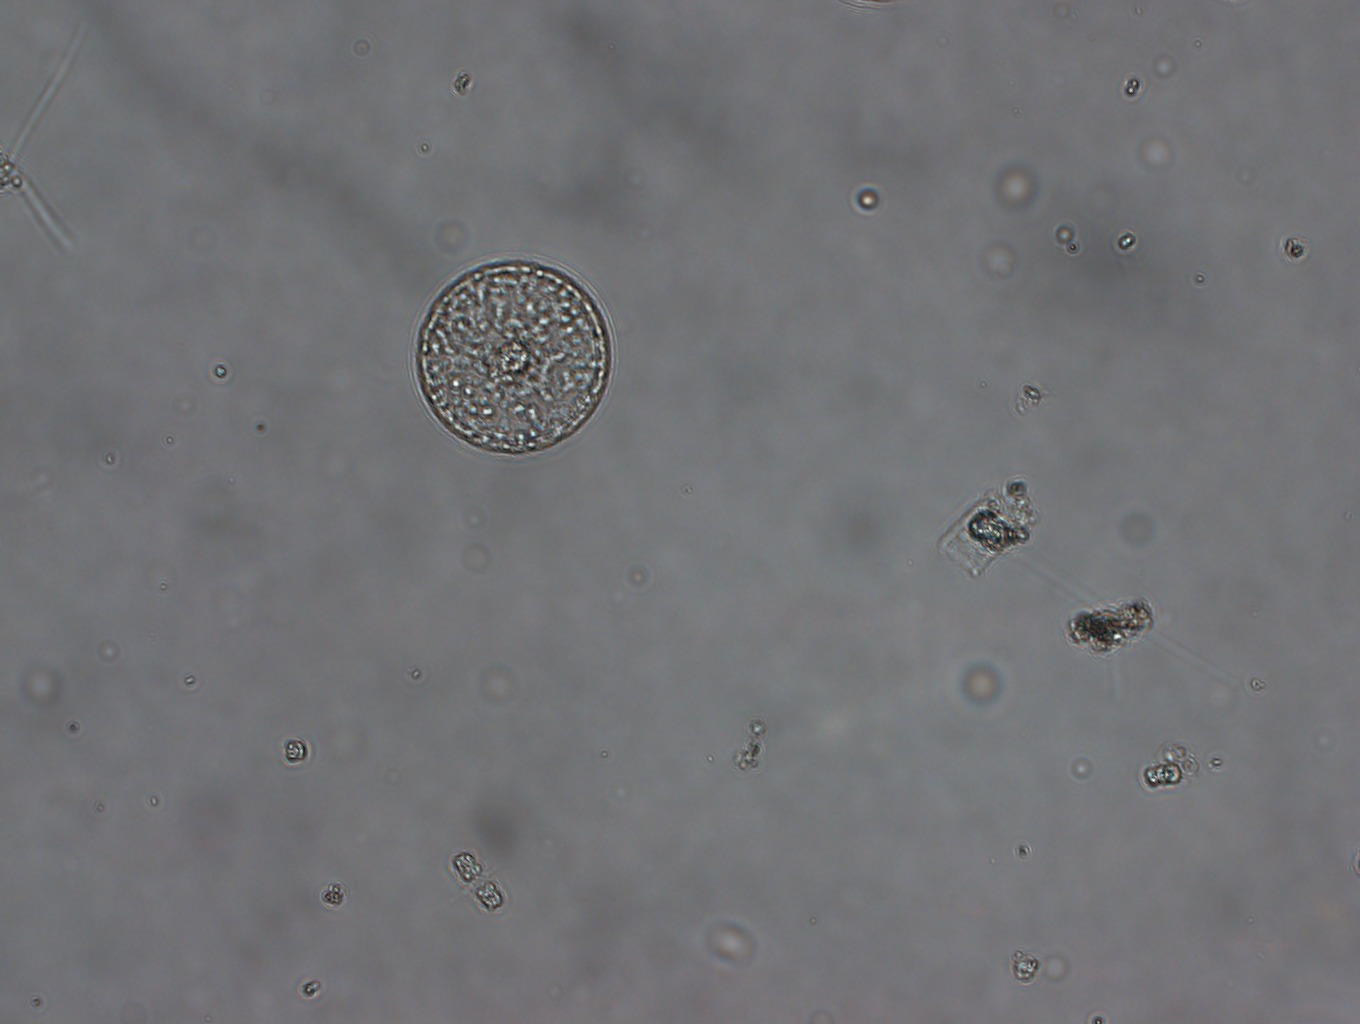coscinodiscus: (409, 252, 618, 461)
